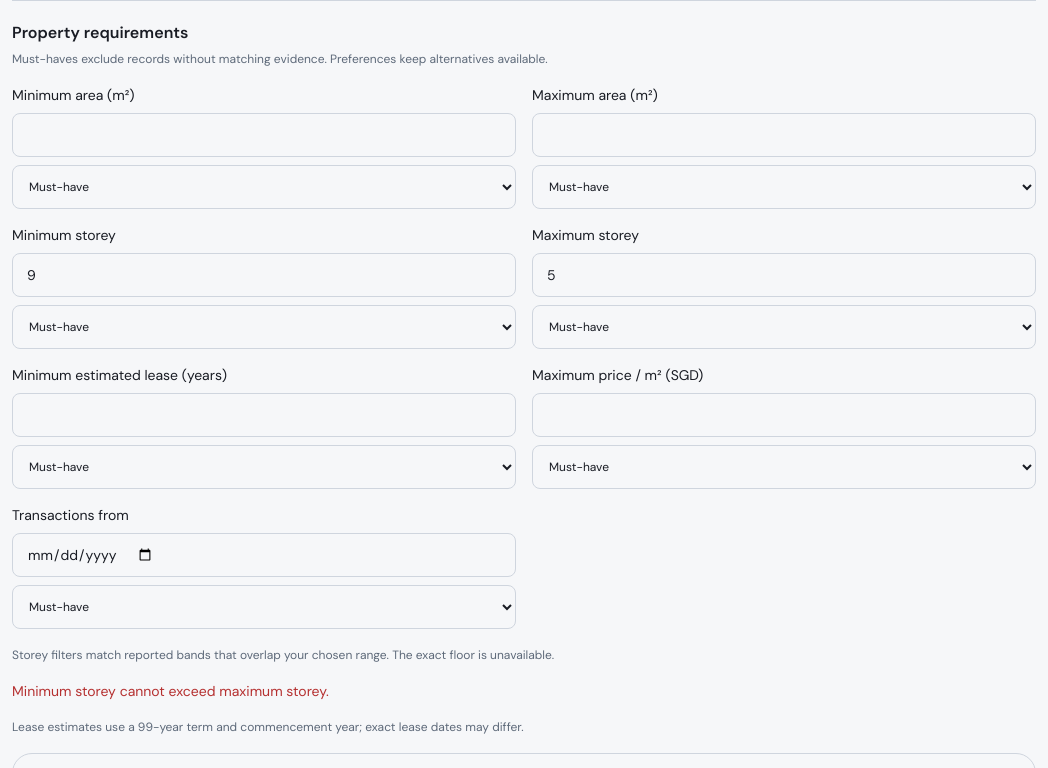
Scenario: shows accessible guidance and resolves the invalid range message when fixed
Expected: the message reads "Minimum storey cannot exceed maximum storey.", [12, 682, 329, 700]
Replace the text in the number field labelled "Minimum storey" with "5" at (264, 275), box [12, 253, 516, 297]
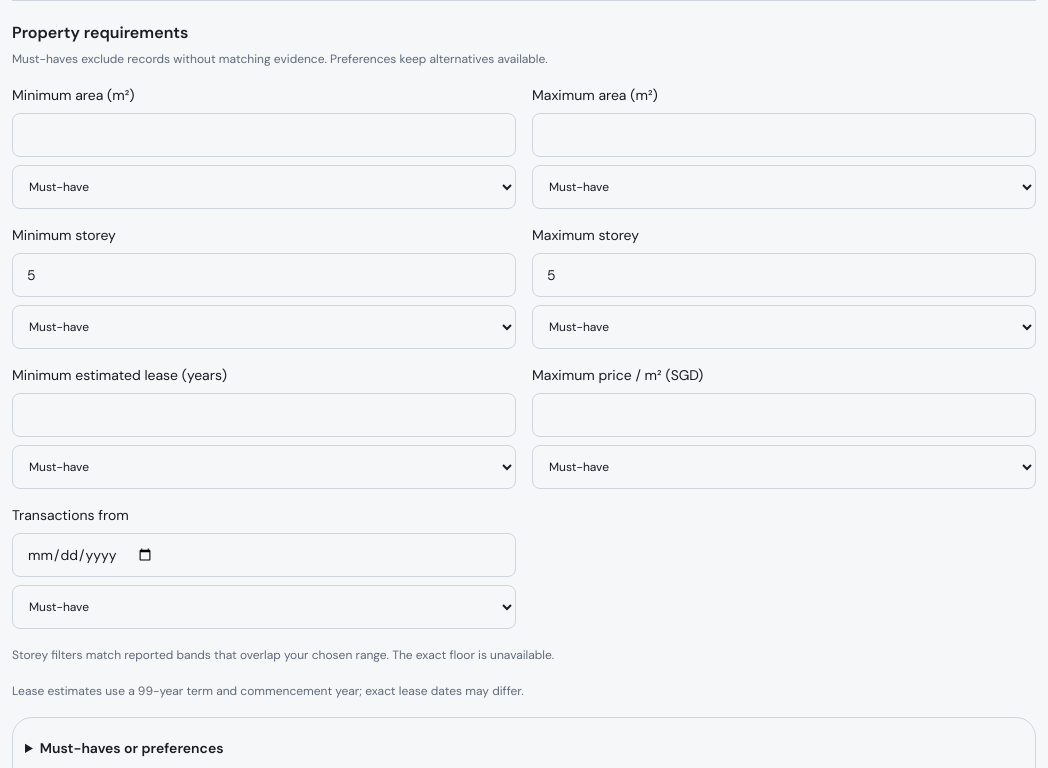
Now the message "Minimum storey cannot exceed maximum storey." is gone
